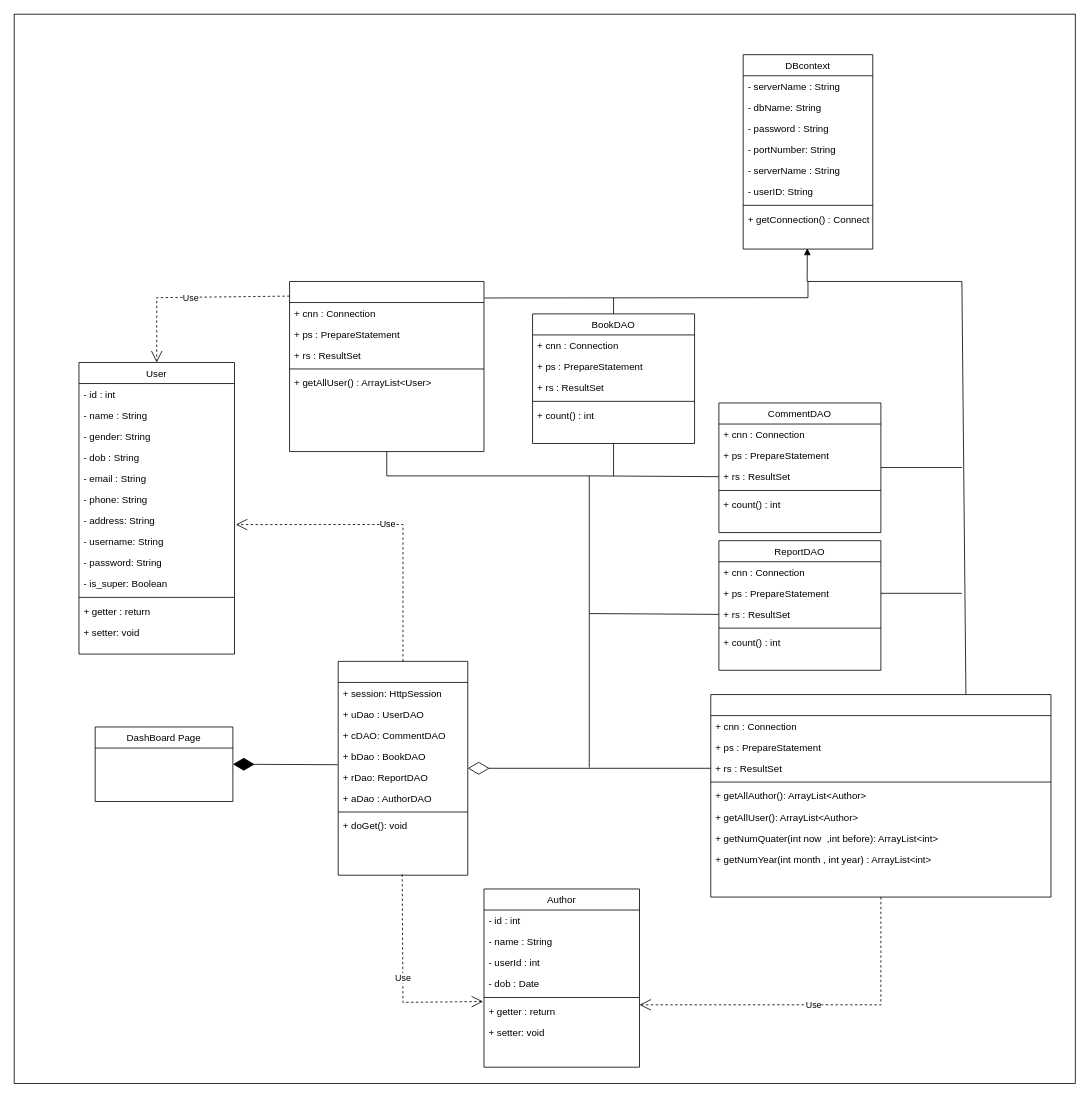
This 1089x1098 diagram has some shape labels left out. Each missing label, with the box of its shape:
AuthorDAO: (710, 694, 1051, 897)
DashBoard: (337, 661, 468, 875)
UserDAO: (289, 281, 484, 452)
